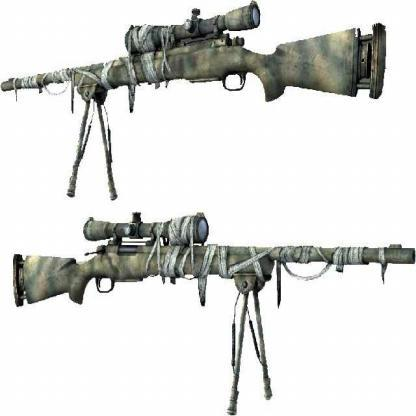rifle: (6, 203, 416, 314), (3, 6, 398, 112)
